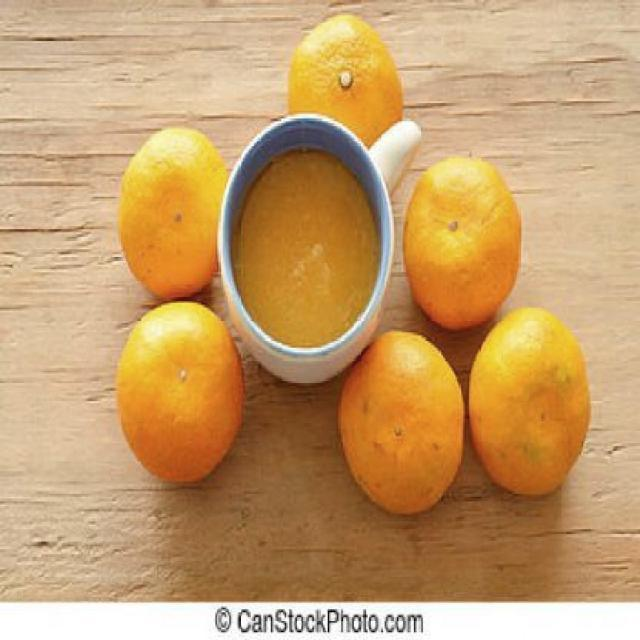Jeruk Sudah Matang: (336, 323, 466, 519), (466, 307, 592, 496), (116, 302, 242, 487), (398, 151, 520, 332), (118, 123, 234, 300), (288, 18, 402, 187)
